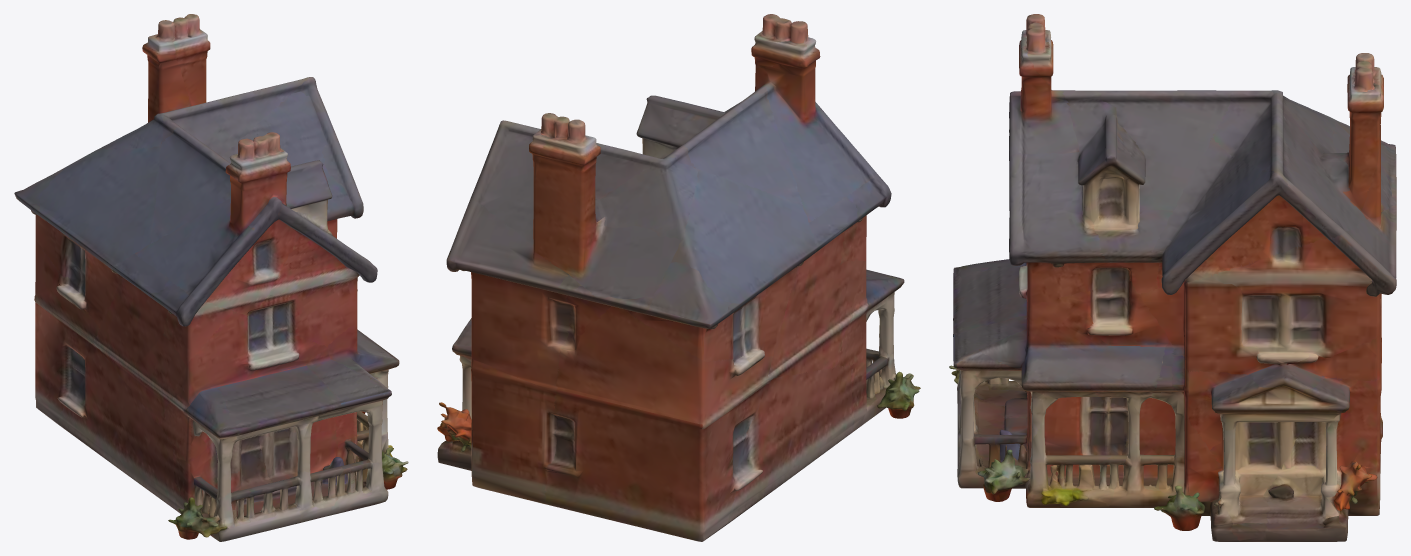
The model's file is townhouse_industrial.glb.
3 renders of one model, left to right at view 1: azimuth 30°, elevation 25°; view 2: azimuth 150°, elevation 25°; view 3: azimuth 270°, elevation 25°, orthographic. The views are drawn at different scales.
Parts seen in each view (by area): view 1: tripo_node_cc3b220e-c88c-4ecf-9ade-f87ad37d5f16; view 2: tripo_node_cc3b220e-c88c-4ecf-9ade-f87ad37d5f16; view 3: tripo_node_cc3b220e-c88c-4ecf-9ade-f87ad37d5f16.
Boxes of the visible parts, left/top/right/bottom form: tripo_node_cc3b220e-c88c-4ecf-9ade-f87ad37d5f16: left=14, top=14, right=408, bottom=541; tripo_node_cc3b220e-c88c-4ecf-9ade-f87ad37d5f16: left=437, top=14, right=920, bottom=541; tripo_node_cc3b220e-c88c-4ecf-9ade-f87ad37d5f16: left=949, top=14, right=1396, bottom=541.
Size of the model in its own units: 0.7909 by 0.9293 by 0.9118.
Materials: 1 (1 with a texture image).
